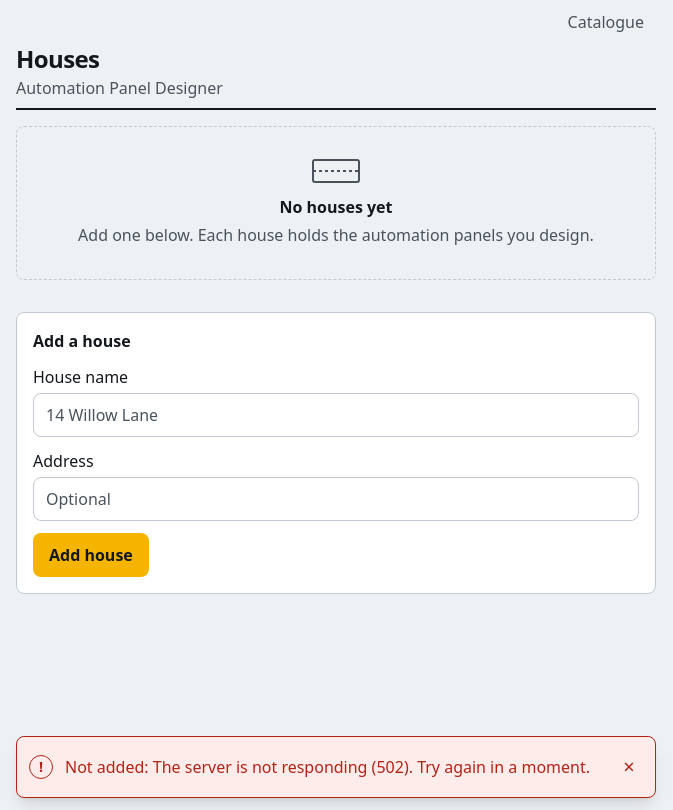
ProjectsPage › says what the API refused when no field owns the error, instead of swallowing it
Expected: the text "No houses yet" is shown, [280,196,392,218]
In the field labelled "House name": (336,415) [33,393,639,437], type "Keep me"
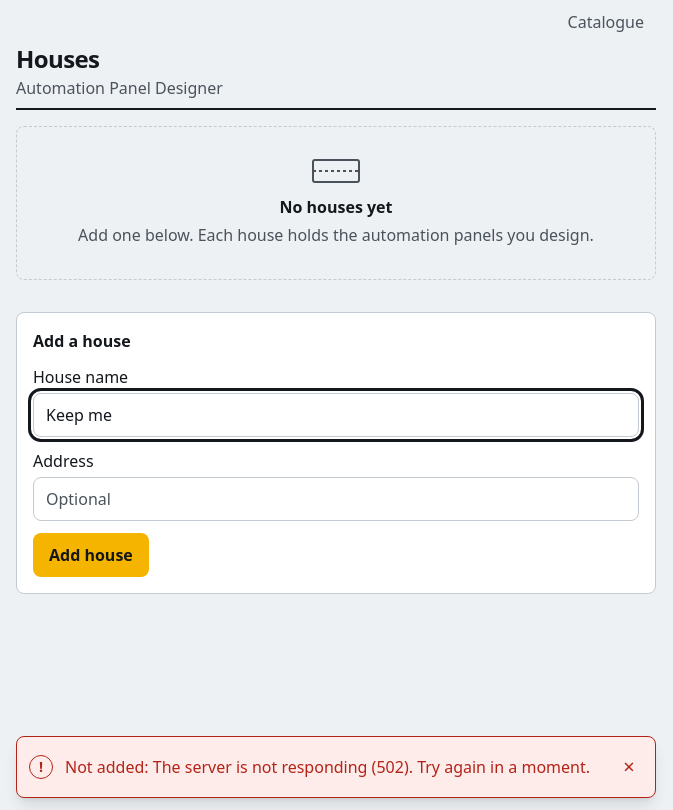
Click the button "Add house": (91,555) [33,533,149,577]
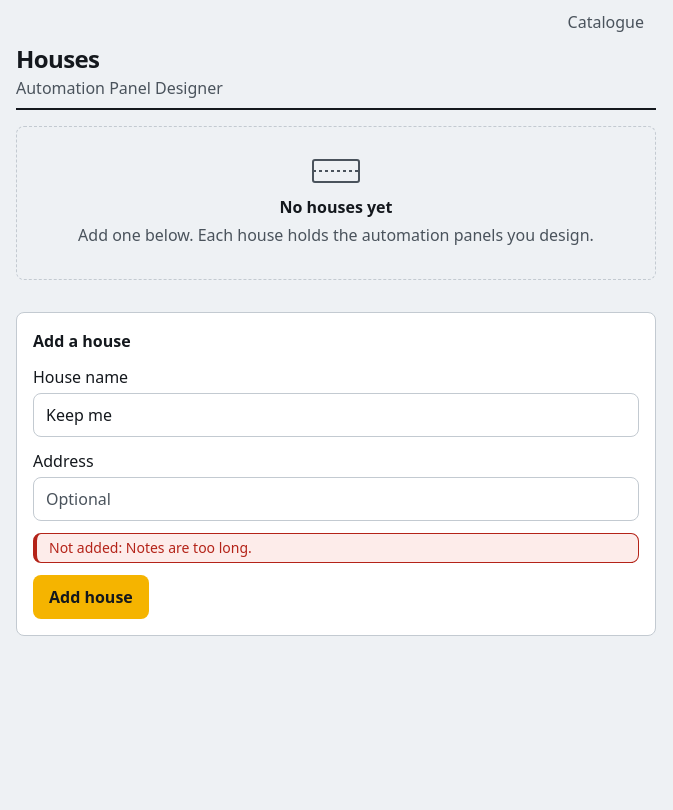
Expected: the message shows "Not added: Notes are too long", [49,538,252,557]
